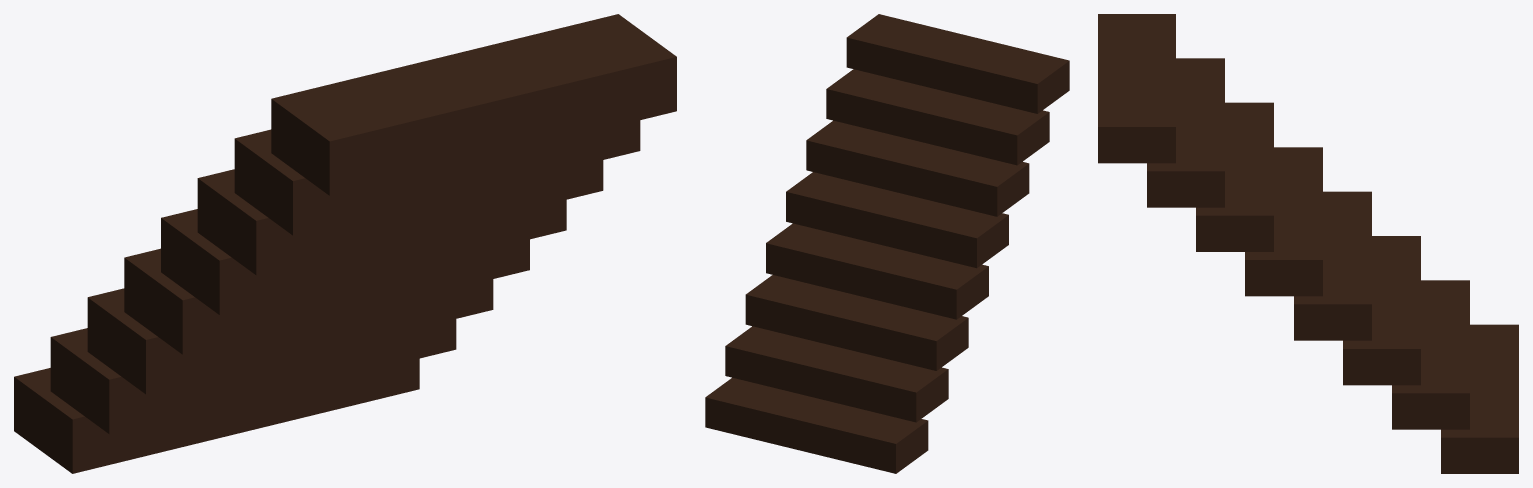
File: GalakasMidCity_INT_Stair_Straight_01.obj
3 renders of one model, left to right at view 1: azimuth 30°, elevation 25°; view 2: azimuth 150°, elevation 25°; view 3: azimuth 270°, elevation 25°, orthographic. The views are drawn at different scales.
Visible parts, largest first — view 1: step_7, step_2, step_1, step_6, step_5, step_3, step_0, step_4; view 2: step_7, step_0, step_2, step_5, step_1, step_6, step_4, step_3; view 3: step_7, step_2, step_0, step_1, step_3, step_4, step_5, step_6.
Part boxes in pixels (x1=…): step_7: x1=271, y1=14, x2=676, y2=195; step_2: x1=87, y1=279, x2=493, y2=394; step_1: x1=50, y1=319, x2=456, y2=434; step_6: x1=234, y1=120, x2=640, y2=235; step_5: x1=197, y1=160, x2=603, y2=275; step_3: x1=124, y1=239, x2=529, y2=354; step_0: x1=14, y1=358, x2=419, y2=473; step_4: x1=161, y1=199, x2=566, y2=314; step_7: x1=846, y1=14, x2=1069, y2=113; step_0: x1=705, y1=377, x2=928, y2=473; step_2: x1=745, y1=275, x2=968, y2=370; step_5: x1=806, y1=120, x2=1029, y2=216; step_1: x1=725, y1=326, x2=948, y2=422; step_6: x1=826, y1=69, x2=1049, y2=165; step_4: x1=786, y1=172, x2=1008, y2=268; step_3: x1=766, y1=223, x2=988, y2=319; step_7: x1=1098, y1=14, x2=1175, y2=163; step_2: x1=1343, y1=236, x2=1420, y2=385; step_0: x1=1441, y1=324, x2=1518, y2=473; step_1: x1=1392, y1=280, x2=1469, y2=429; step_3: x1=1294, y1=191, x2=1371, y2=340; step_4: x1=1245, y1=147, x2=1322, y2=296; step_5: x1=1196, y1=102, x2=1273, y2=251; step_6: x1=1147, y1=58, x2=1224, y2=207.
Size of the model in its own units: 1.2 by 1.72 by 1.89.
